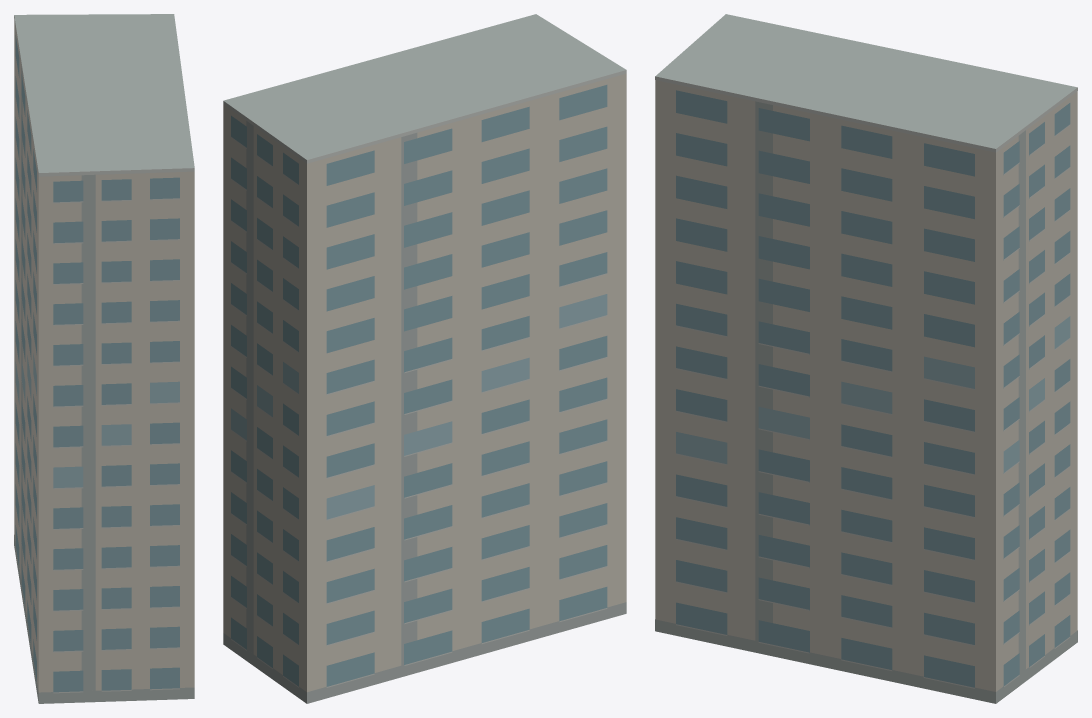
File: residential-564fb8a4-9858-412f-9da7-cb67244ab0b7.glb
The picture shows the model from 3 angles, left to right: view 1: azimuth 30°, elevation 25°; view 2: azimuth 150°, elevation 25°; view 3: azimuth 270°, elevation 25°; orthographic projection. The views are drawn at different scales.
Visible parts, largest first — view 1: residential-564fb8a4-9858-412f-9da7-cb67244ab0b7.tmp; view 2: residential-564fb8a4-9858-412f-9da7-cb67244ab0b7.tmp; view 3: residential-564fb8a4-9858-412f-9da7-cb67244ab0b7.tmp.
Part boxes in pixels (x1,y1,x2,y2): residential-564fb8a4-9858-412f-9da7-cb67244ab0b7.tmp: (14,14,194,703); residential-564fb8a4-9858-412f-9da7-cb67244ab0b7.tmp: (223,14,626,703); residential-564fb8a4-9858-412f-9da7-cb67244ab0b7.tmp: (655,14,1077,703).
Size of the model in its own units: 19.31 by 37 by 25.55.
